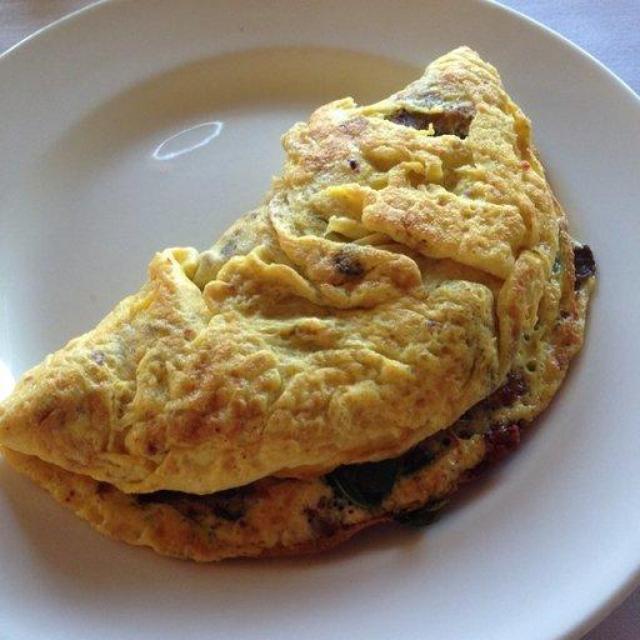food_waste: (1, 46, 640, 570)
